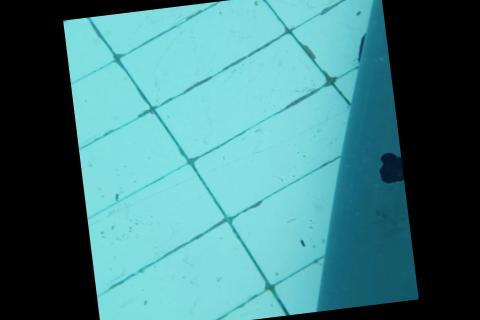kebocoran: (375, 151, 404, 188)
